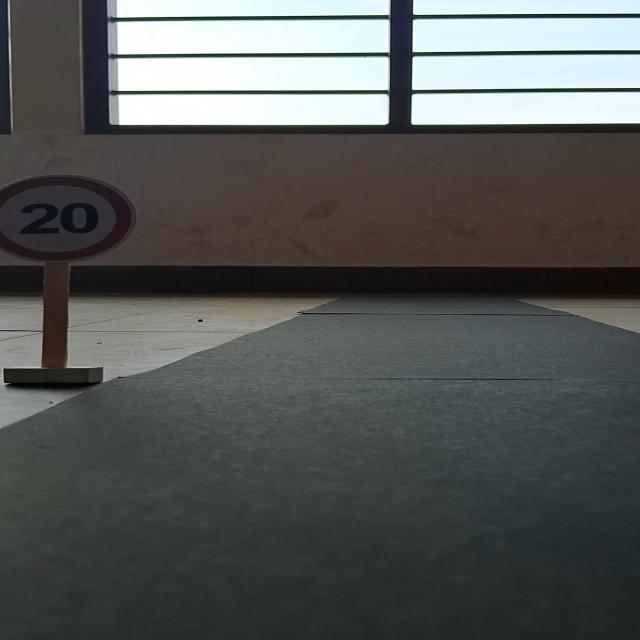Speed20: (0, 165, 146, 276)
